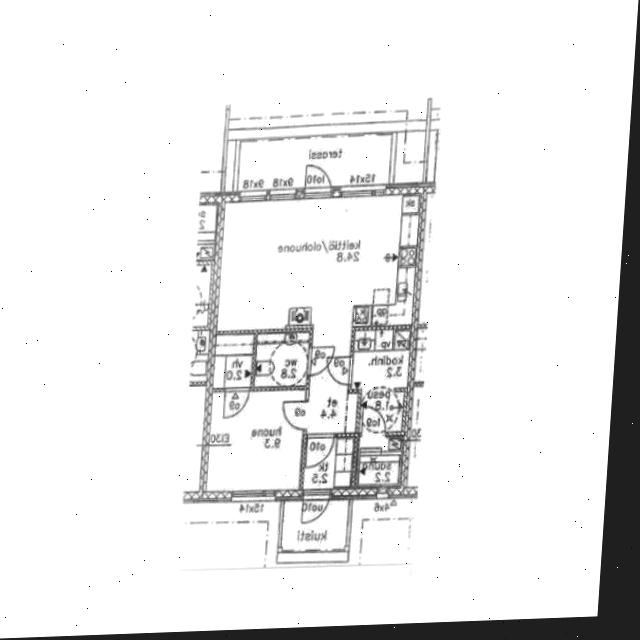room: (206, 384, 305, 498), (349, 326, 411, 435), (254, 333, 311, 386), (303, 434, 354, 492), (213, 332, 254, 391), (357, 436, 401, 488)
